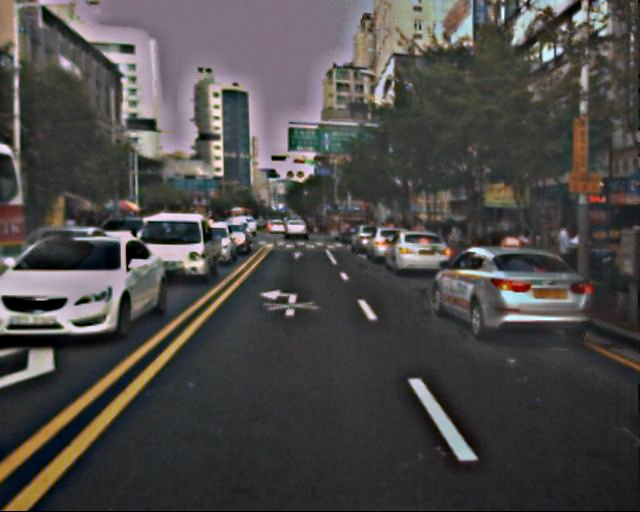person: (553, 220, 583, 292)
